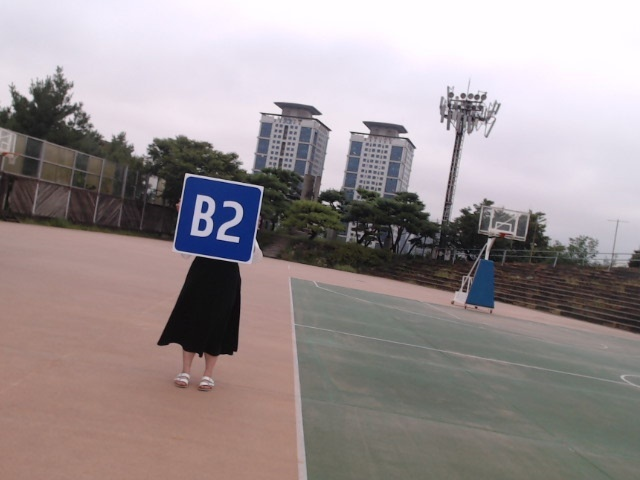delivery_b2: (173, 174, 263, 264)
